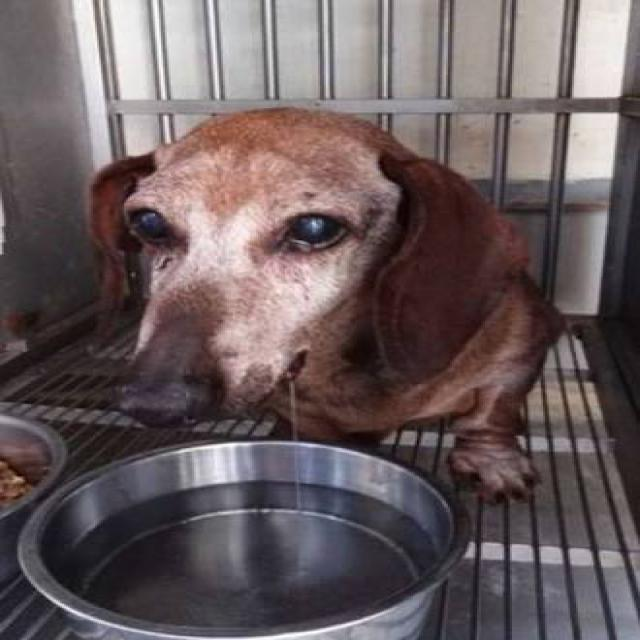eye: (279, 207, 355, 253), (125, 203, 182, 249)
